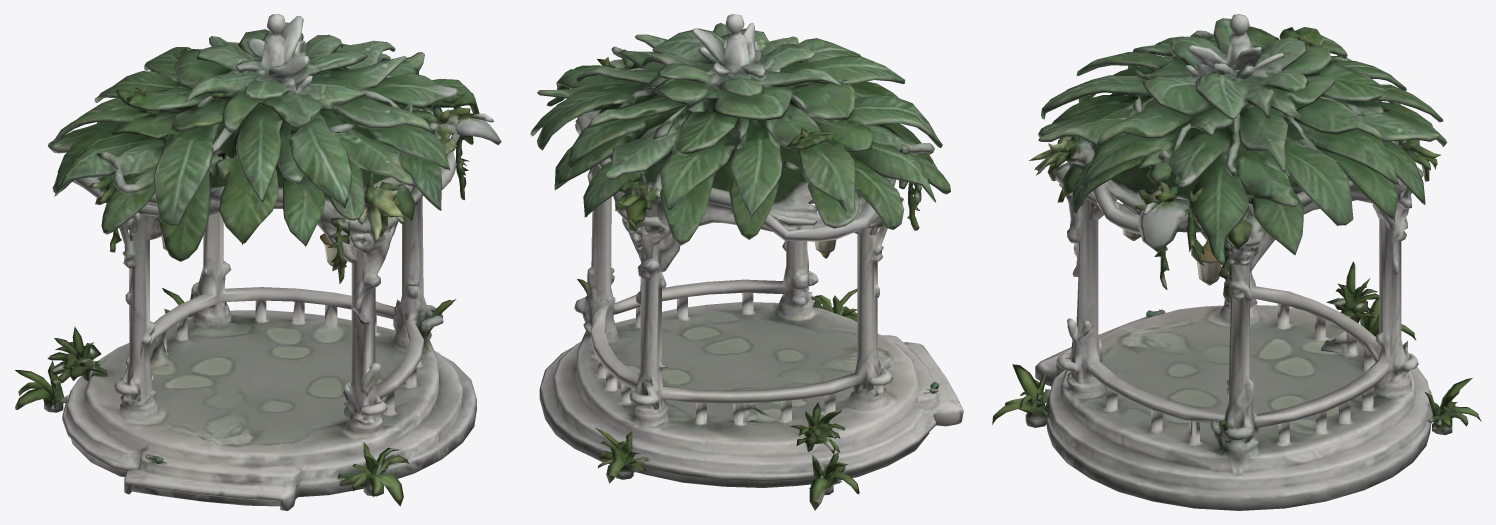
Rendered from elven-pavilion.glb.
The picture shows the model from 3 angles, left to right: view 1: azimuth 30°, elevation 25°; view 2: azimuth 150°, elevation 25°; view 3: azimuth 270°, elevation 25°; orthographic projection. The views are drawn at different scales.
Parts seen in each view (by area): view 1: tripo_node_0f193536-beab-4b8c-88cc-b99927513ff3; view 2: tripo_node_0f193536-beab-4b8c-88cc-b99927513ff3; view 3: tripo_node_0f193536-beab-4b8c-88cc-b99927513ff3.
Part boxes in pixels (x1=…): tripo_node_0f193536-beab-4b8c-88cc-b99927513ff3: x1=15, y1=14, x2=501, y2=510; tripo_node_0f193536-beab-4b8c-88cc-b99927513ff3: x1=530, y1=14, x2=963, y2=510; tripo_node_0f193536-beab-4b8c-88cc-b99927513ff3: x1=992, y1=14, x2=1481, y2=510.
Bounding box in the file's own units: 0.9725 × 0.9037 × 0.9763.
1 material, 1 textured.
